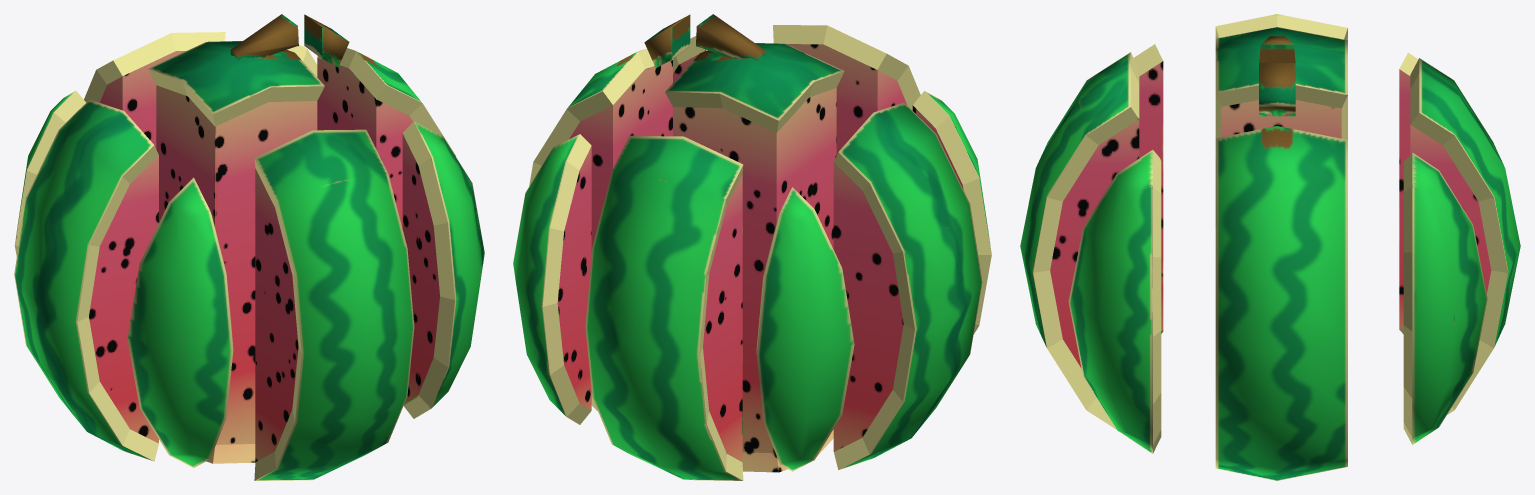
Rendered from watermelon-slices.fbx.
The picture shows the model from 3 angles, left to right: view 1: azimuth 30°, elevation 25°; view 2: azimuth 150°, elevation 25°; view 3: azimuth 270°, elevation 25°; orthographic projection. The views are drawn at different scales.
Parts seen in each view (by area): view 1: Slice8, Slice4, Slice1, Slice7, Slice9, Slice5, Slice2, Slice2.001, Cube.000; view 2: Slice2, Slice4, Slice1, Slice2.001, Slice6, Slice5, Slice8, Slice7, Cube.000, Slice9; view 3: Slice5, Slice9, Slice8, Slice6, Slice2, Slice1, Slice7, Slice4, Slice2.001, Cube.000.
Boxes of the visible parts, left/top/right/bottom form: Slice8: left=254, top=129, right=414, bottom=480; Slice4: left=14, top=99, right=158, bottom=461; Slice1: left=148, top=14, right=324, bottom=463; Slice7: left=127, top=177, right=233, bottom=467; Slice9: left=402, top=121, right=484, bottom=418; Slice5: left=317, top=48, right=455, bottom=228; Slice2: left=84, top=32, right=225, bottom=148; Slice2.001: left=14, top=90, right=86, bottom=256; Cube.000: left=304, top=14, right=349, bottom=66; Slice2: left=585, top=135, right=743, bottom=480; Slice4: left=833, top=102, right=982, bottom=469; Slice1: left=665, top=14, right=844, bottom=472; Slice2.001: left=756, top=187, right=854, bottom=471; Slice6: left=513, top=134, right=591, bottom=424; Slice5: left=529, top=48, right=672, bottom=410; Slice8: left=773, top=25, right=920, bottom=154; Slice7: left=912, top=91, right=991, bottom=334; Cube.000: left=644, top=14, right=690, bottom=67; Slice9: left=673, top=36, right=707, bottom=82; Slice5: left=1215, top=126, right=1347, bottom=480; Slice9: left=1068, top=150, right=1161, bottom=453; Slice8: left=1020, top=52, right=1139, bottom=428; Slice6: left=1403, top=152, right=1487, bottom=444; Slice2: left=1410, top=58, right=1520, bottom=414; Slice1: left=1215, top=27, right=1347, bottom=138; Slice7: left=1134, top=44, right=1163, bottom=333; Slice4: left=1215, top=14, right=1347, bottom=139; Slice2.001: left=1399, top=52, right=1418, bottom=333; Cube.000: left=1259, top=63, right=1295, bottom=116.
Bounding box in the file's own units: 190 × 185 × 196.
Materials: 1 (1 with a texture image).
